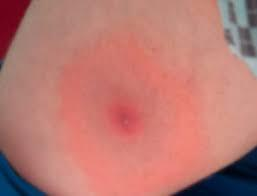Tick: (102, 86, 143, 144)
